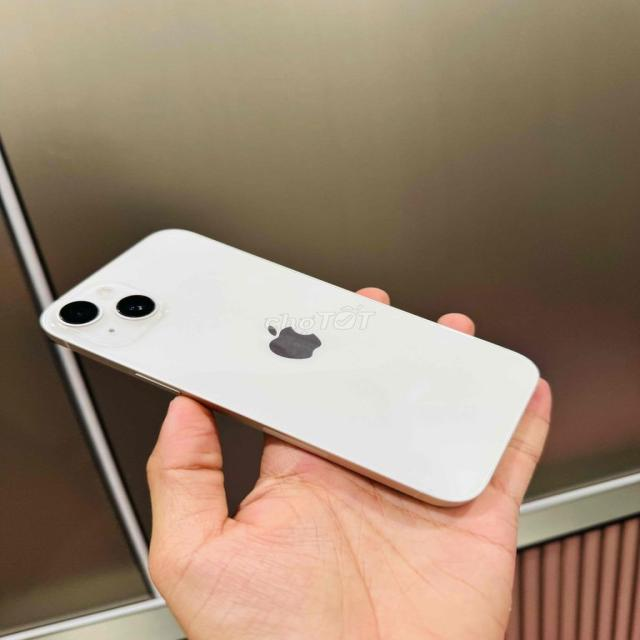gen_14: (5, 220, 553, 503)
